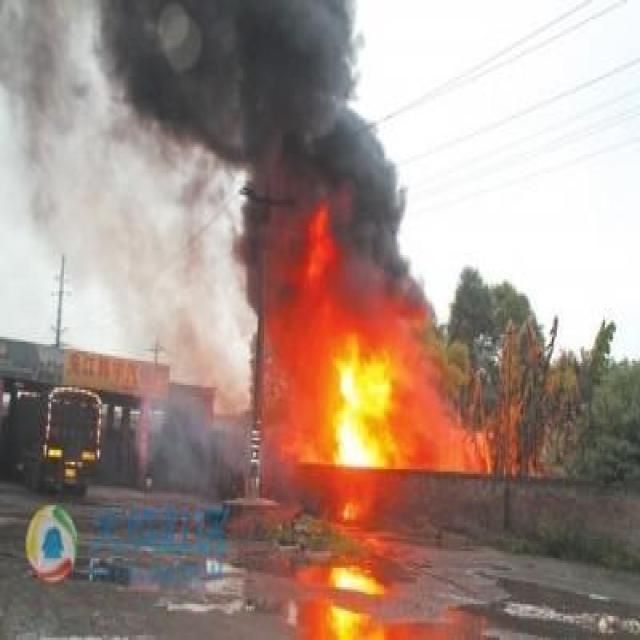Fire: (318, 327, 399, 475)
Smoke: (237, 137, 433, 332), (103, 5, 356, 152), (1, 11, 90, 178)
